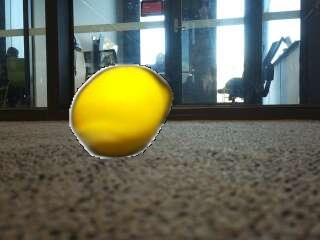lemon: (74, 69, 173, 157)
